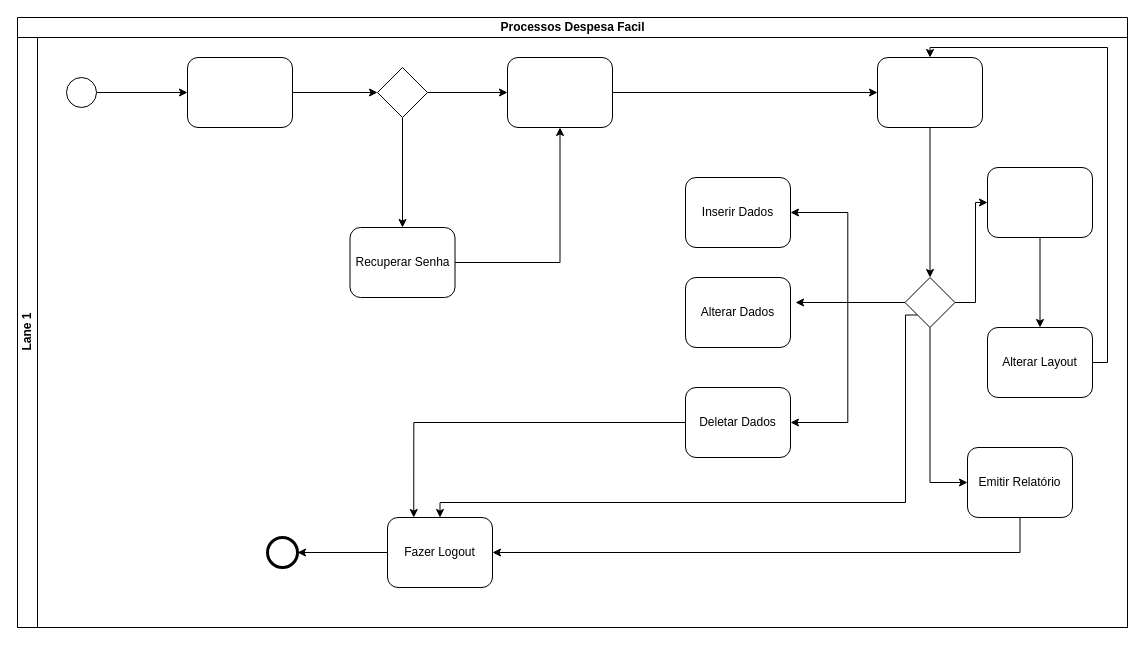
This 1145x645 diagram has some shape labels left out. Here are the shapes that lost their labels. From the top down, the centre of each, then its label:
At (x=239, y=92): "Fazer Cadastro".
At (x=559, y=92): "Fazer Login".
At (x=929, y=92): "Listar Dados".
At (x=1039, y=202): "Alterar Usuário".
